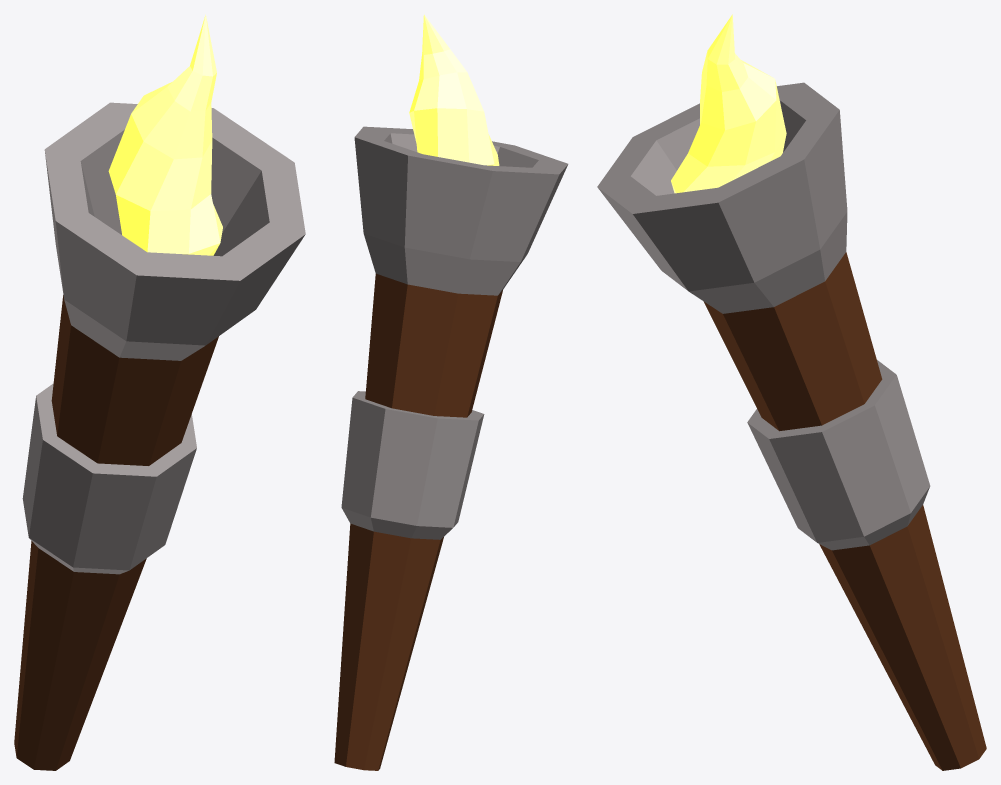
File: Torch.fbx
3 views of the same model, side by side, from view 1: azimuth 30°, elevation 25°; view 2: azimuth 150°, elevation 25°; view 3: azimuth 270°, elevation 25° (orthographic). The views are drawn at different scales.
Parts seen in each view (by area): view 1: Torch.009; view 2: Torch.009; view 3: Torch.009.
Part boxes in pixels (x1,y1,x2,y2): Torch.009: (14,14,305,770); Torch.009: (334,14,568,770); Torch.009: (597,14,986,770).
Bounding box in the file's own units: 27.22 × 89.92 × 41.25.
